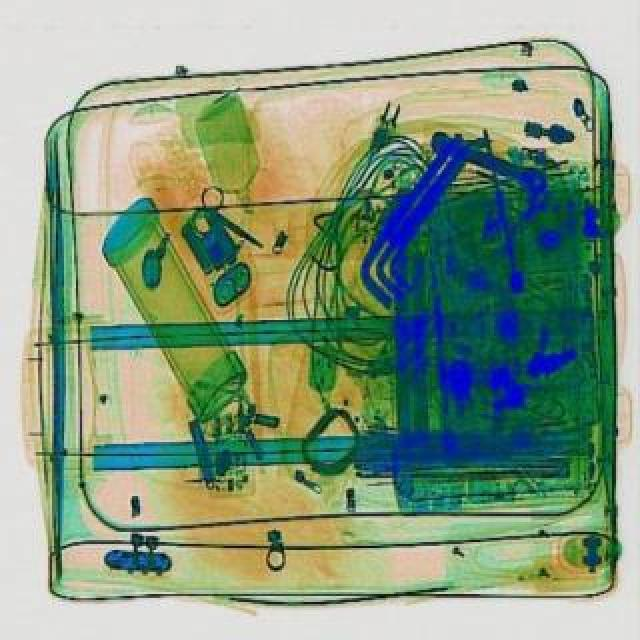pliers: (178, 180, 278, 264)
